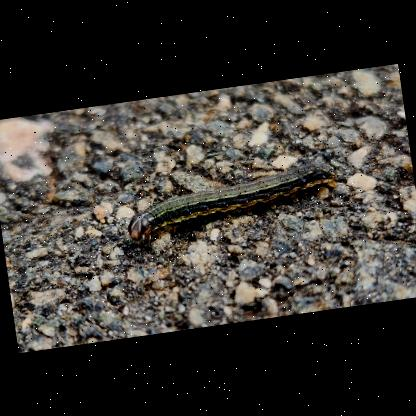Fall Armyworm Larvae: (117, 154, 346, 249)
